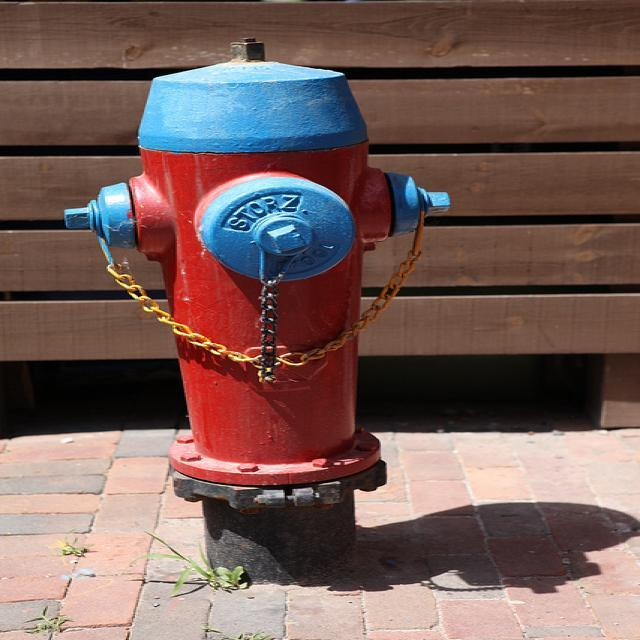fire_hydrant: (61, 56, 452, 586)
